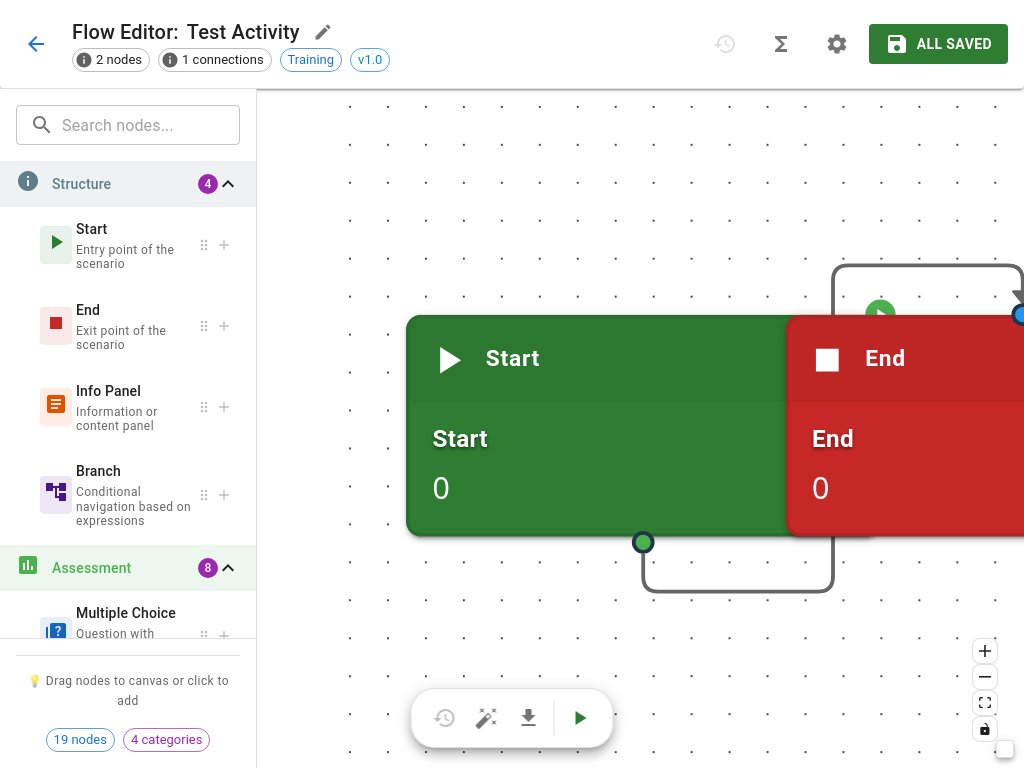
Test: Flow Editor Persistence › should allow editing the scenario title
This screenshot has width=1024, height=768.
Click edit button
Click the button named "edit title" at (323, 32), box [308,17,338,47]
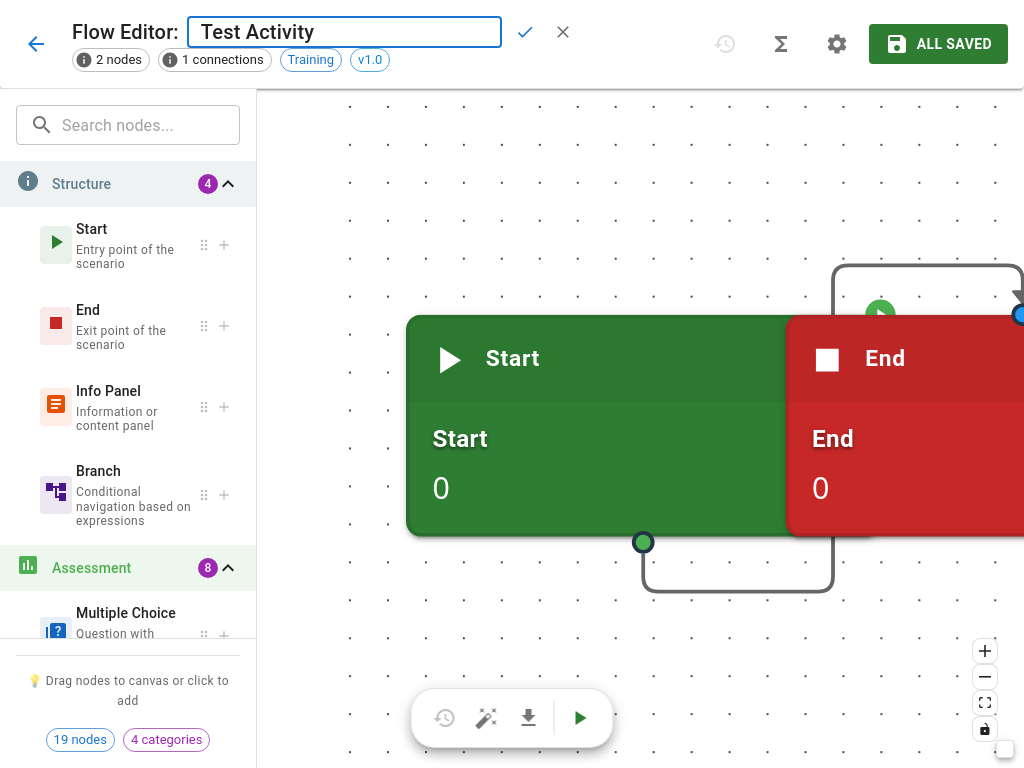
Result: the field showing "Test Activity" is shown
Edit the title
Replace the text in the field showing "Test Activity" with "Updated Test Activity" at (344, 32), box [187,9,502,55]
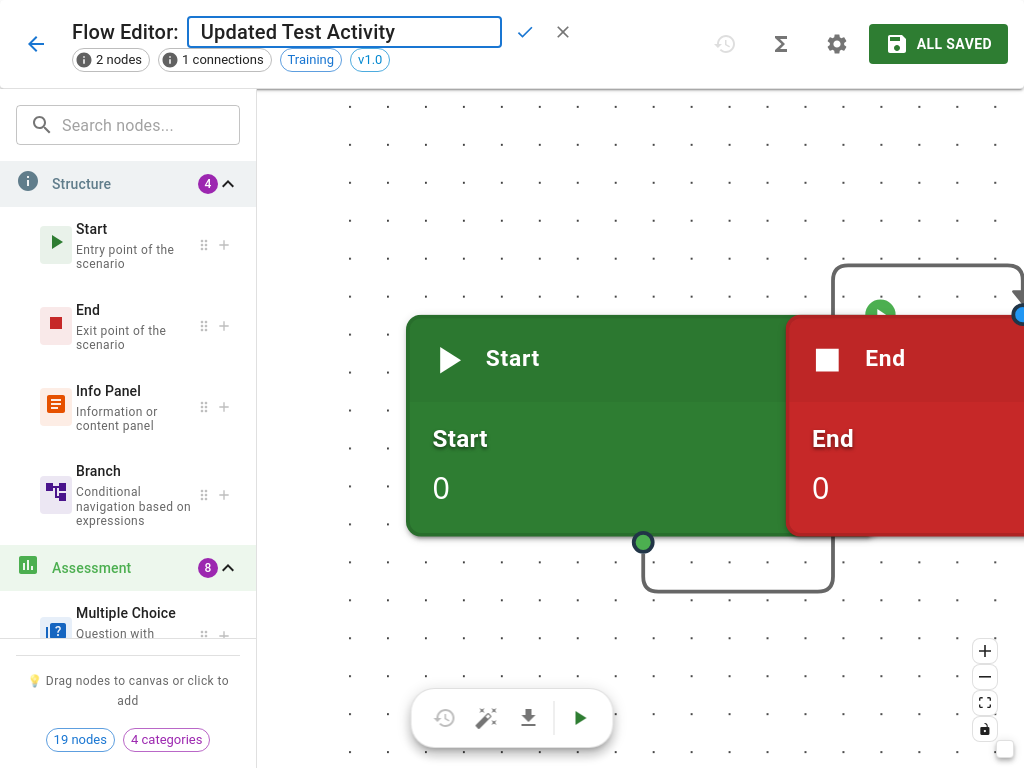
Press Enter to save
Press Enter
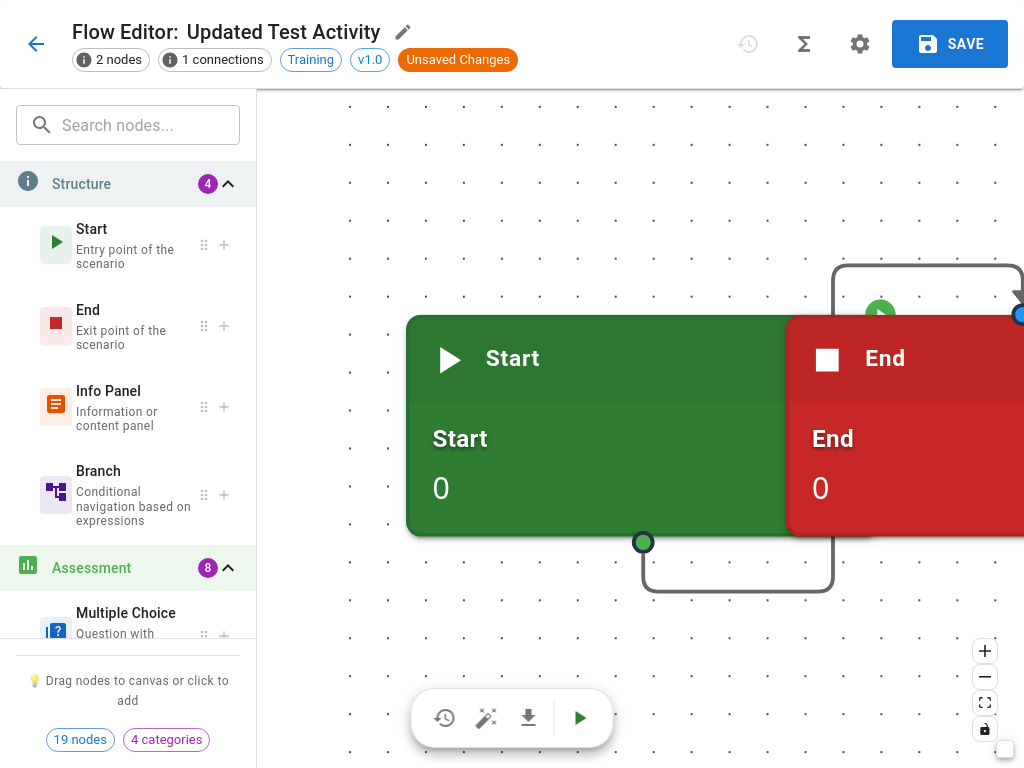
Result: the heading "Updated Test Activity" is shown at [187,16,380,48]
